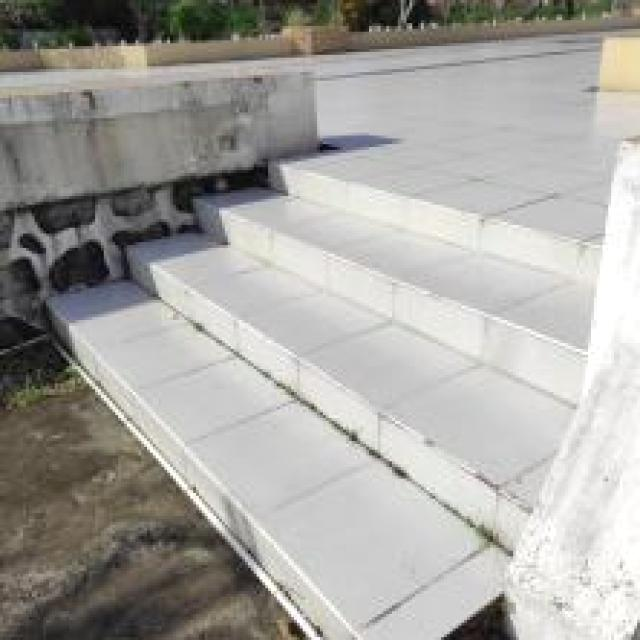downstair: (44, 159, 615, 640)
